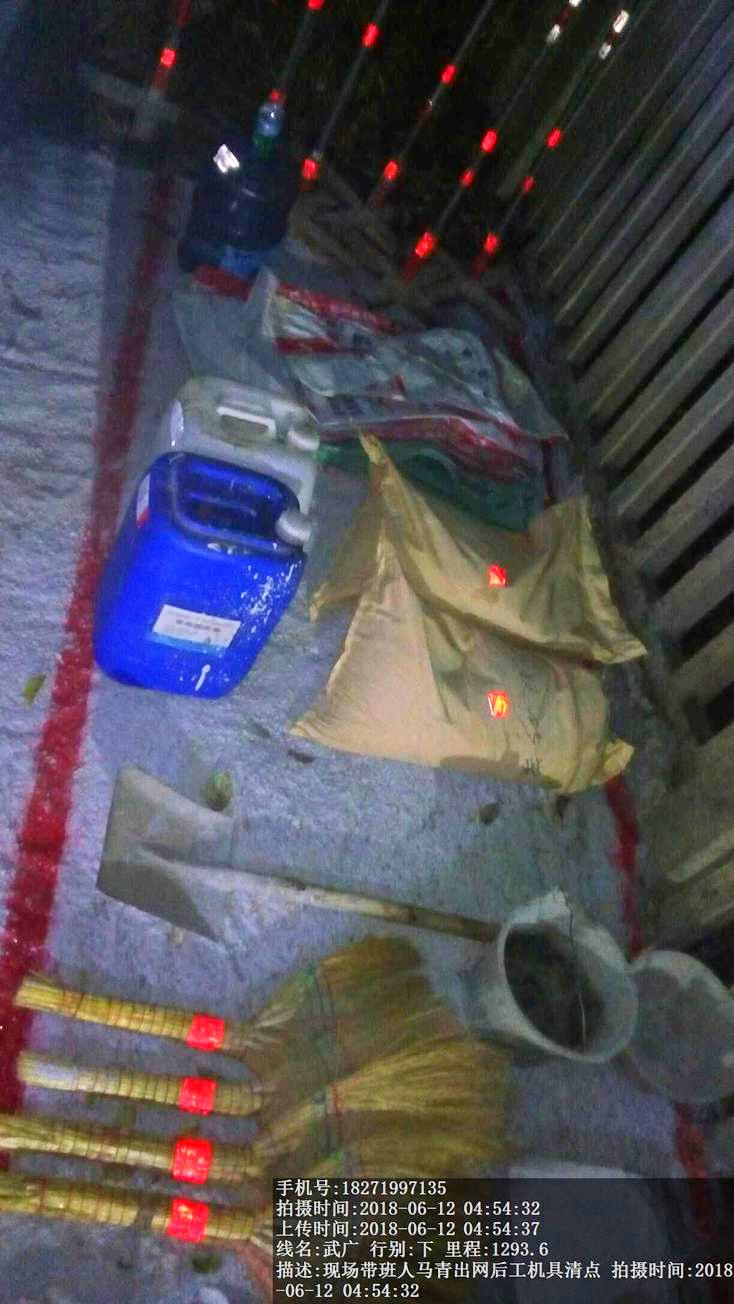SB: (27, 915, 425, 1067)
SLT: (87, 447, 313, 709)
SNT: (482, 904, 635, 1083), (627, 932, 734, 1091)
TQ: (90, 763, 474, 961)
